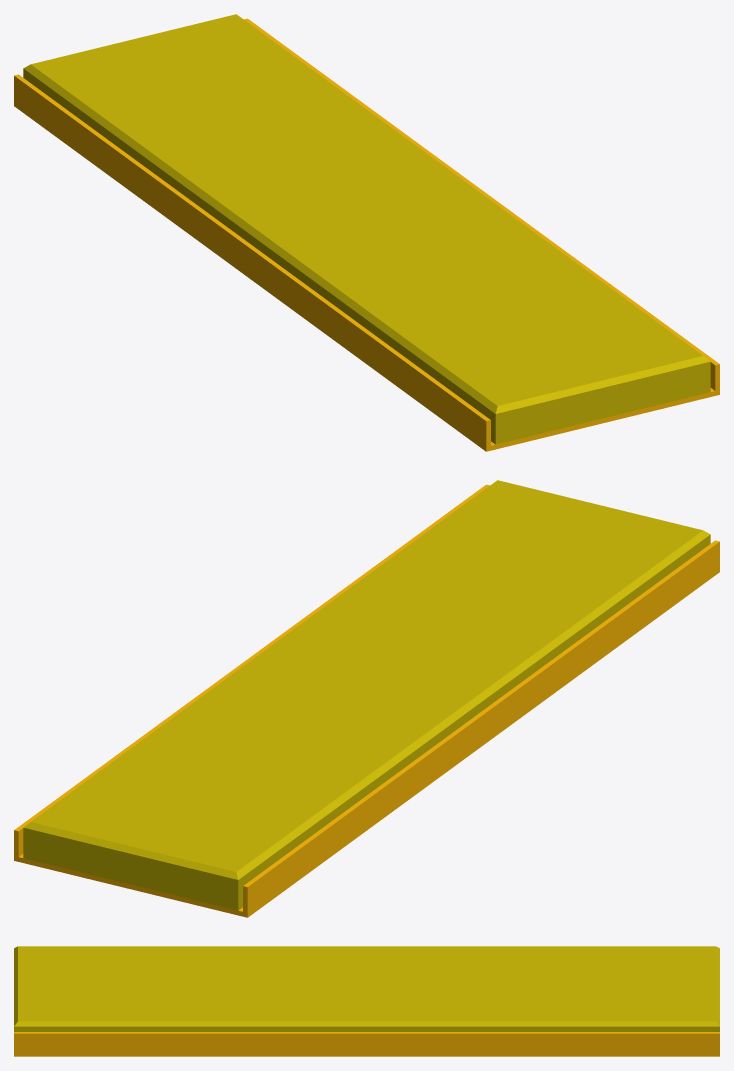
File: seat_bed_7x2.dae
The picture shows the model from 3 angles, top to bottom: view 1: azimuth 30°, elevation 25°; view 2: azimuth 150°, elevation 25°; view 3: azimuth 270°, elevation 25°; orthographic projection. The views are drawn at different scales.
Parts seen in each view (by area): view 1: Cube; view 2: Cube; view 3: Cube.
Boxes of the visible parts, left/top/right/bottom form: Cube: left=14, top=14, right=719, bottom=451; Cube: left=14, top=480, right=719, bottom=917; Cube: left=14, top=946, right=719, bottom=1056.
Bounding box in the file's own units: 0.5 × 1.75 × 0.0825.
